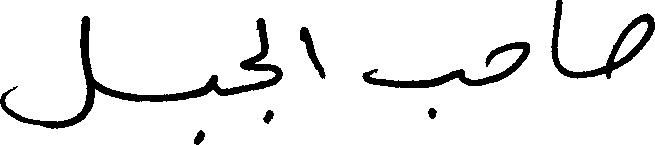X: (0, 11, 92, 133), (363, 64, 463, 123), (241, 13, 281, 128), (609, 8, 654, 83), (486, 37, 529, 88), (291, 22, 325, 83), (552, 0, 562, 78), (207, 70, 219, 99)
